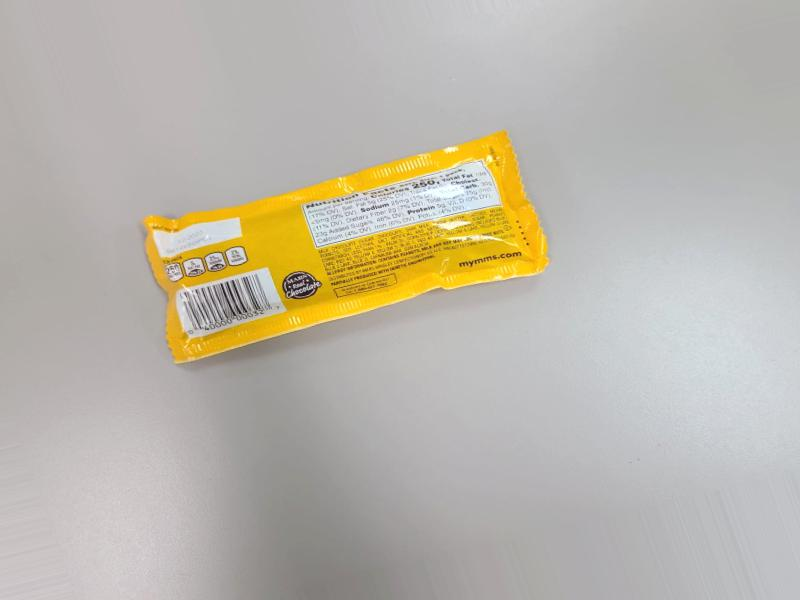m&m: (163, 125, 550, 363)
